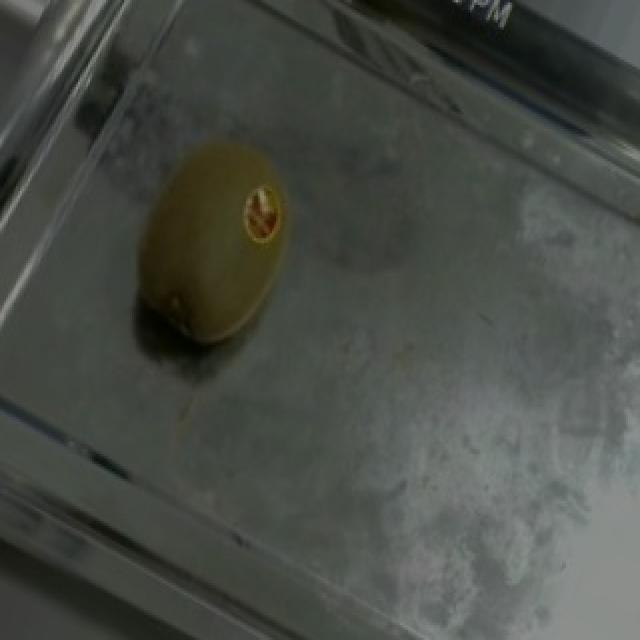Fruit: (88, 102, 330, 384)
